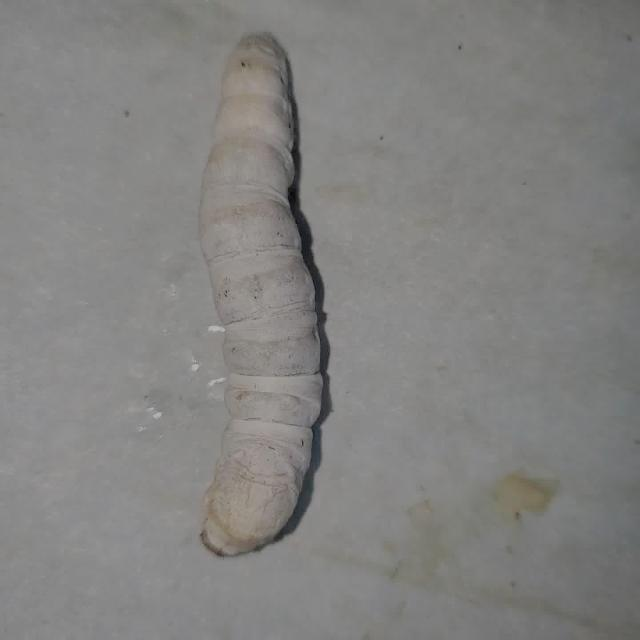Grasserie: (160, 14, 359, 560)
